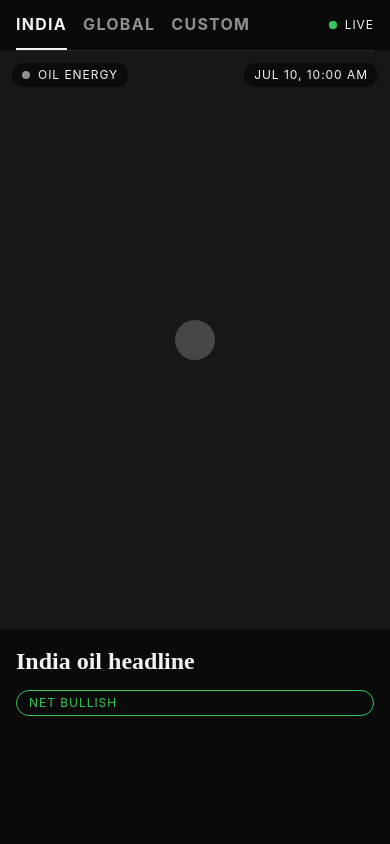
Test: Feed › does not count a live alert on a market the user is not viewing
Click the tab "Global" at (119, 31), box [83,12,155,50]
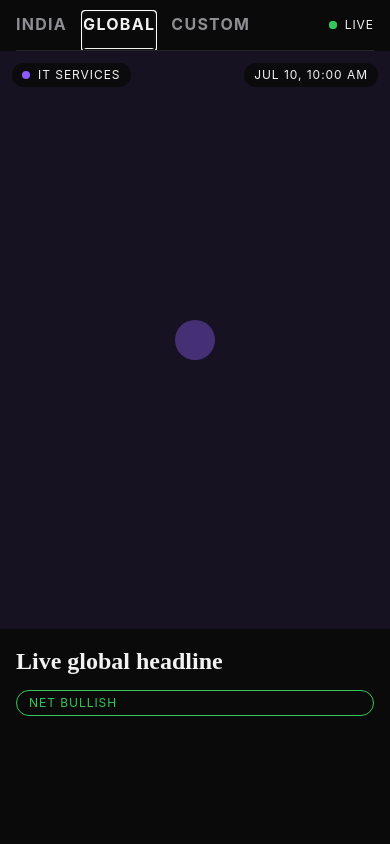
Now the heading "Live global headline" is shown, box [16,648,223,674]
